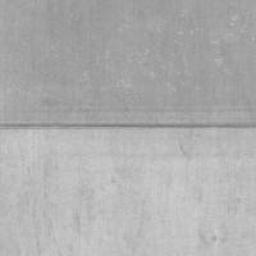Welding line: (0, 122, 256, 131)
